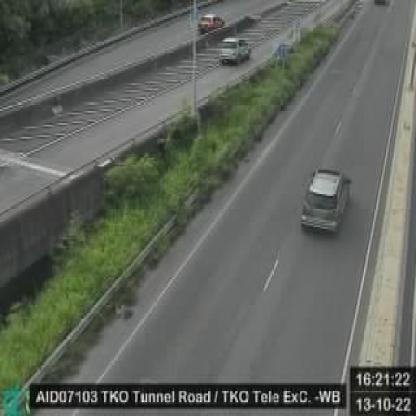Car: (298, 165, 352, 238), (218, 36, 252, 64), (197, 11, 224, 35)
